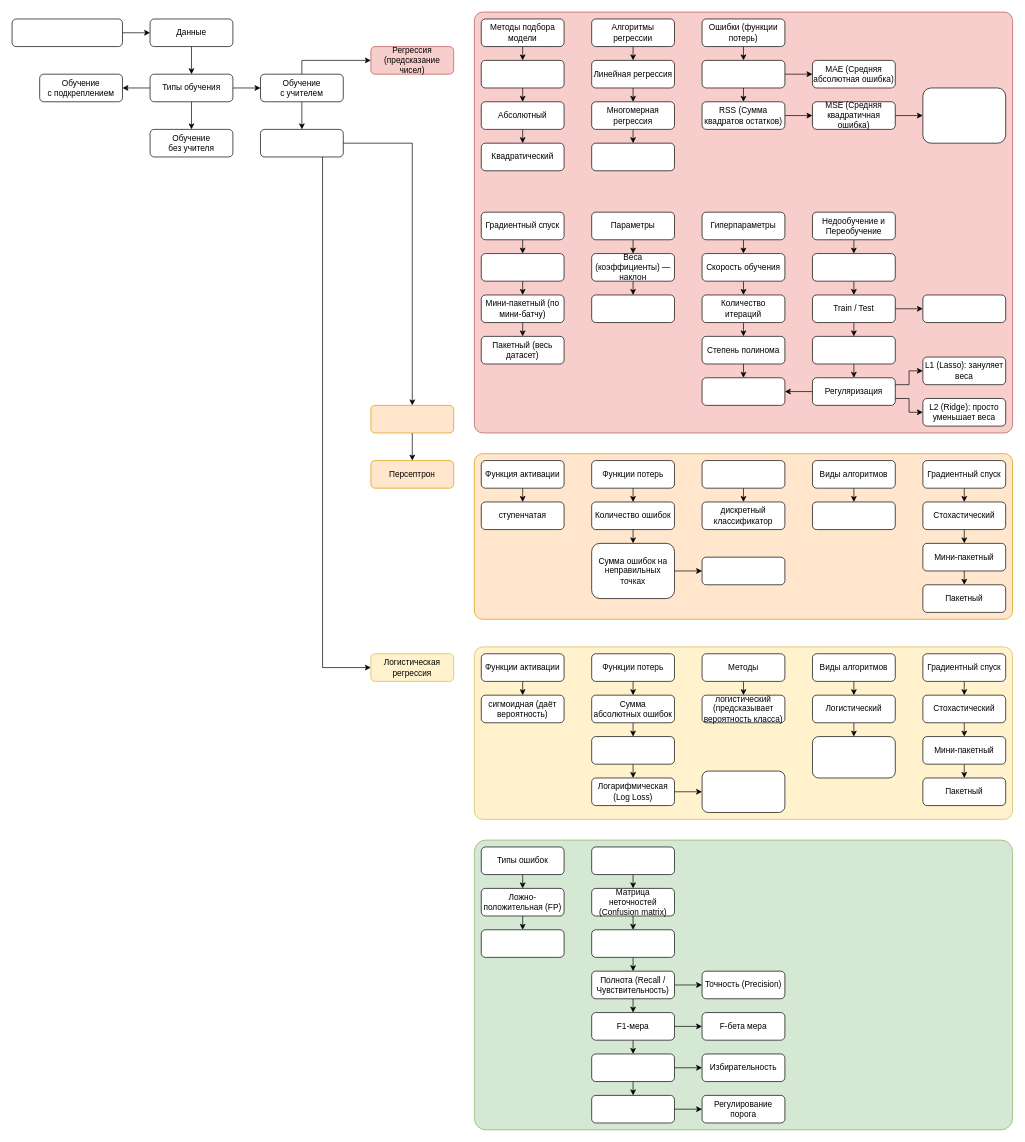
Some shapes in this 1025 by 1142 pixel diagram are drawn without their labels. Each missing label, with the box of its shape:
RMSE (Корень из средней квадратичной ошибки): (922, 87, 1006, 143)
ROC-кривая / AUC: (591, 1095, 674, 1123)
SAE (Сумма абсолютных ошибок): (701, 60, 785, 88)
Train / Valid / Test: (922, 294, 1006, 323)
Бинарная классификация: (370, 405, 454, 433)
График сложности модели: (812, 336, 895, 364)
График функции ошибок: (812, 253, 895, 281)
Достоверность (% случаев, когда модель права): (591, 929, 674, 957)
Классификация (предсказание классов): (260, 129, 343, 157)
Коэффициент регуляризации: (701, 377, 785, 405)
Логистический со многими переменными: (812, 736, 895, 778)
Ложно-отрицательная (FN): (481, 929, 564, 957)
Метод персептрона: (701, 460, 785, 488)
Метрики качества: (591, 846, 674, 875)
Многомерный: (812, 501, 895, 530)
Полиномиальная регрессия: (591, 142, 674, 171)
Простой: (481, 60, 564, 88)
Смещение (bias) — сдвиг: (591, 294, 674, 323)
Средняя ошибка: (701, 556, 785, 585)
Стохастический (по одному примеру): (481, 253, 564, 281)
Сумма квадратов остатков: (591, 736, 674, 764)
Сумма логарифмических потерь (cross-entropy): (701, 770, 785, 812)
Что такое ИИ / ML / DL: (11, 18, 122, 47)
Чувствительность (= полнота): (591, 1053, 674, 1082)
